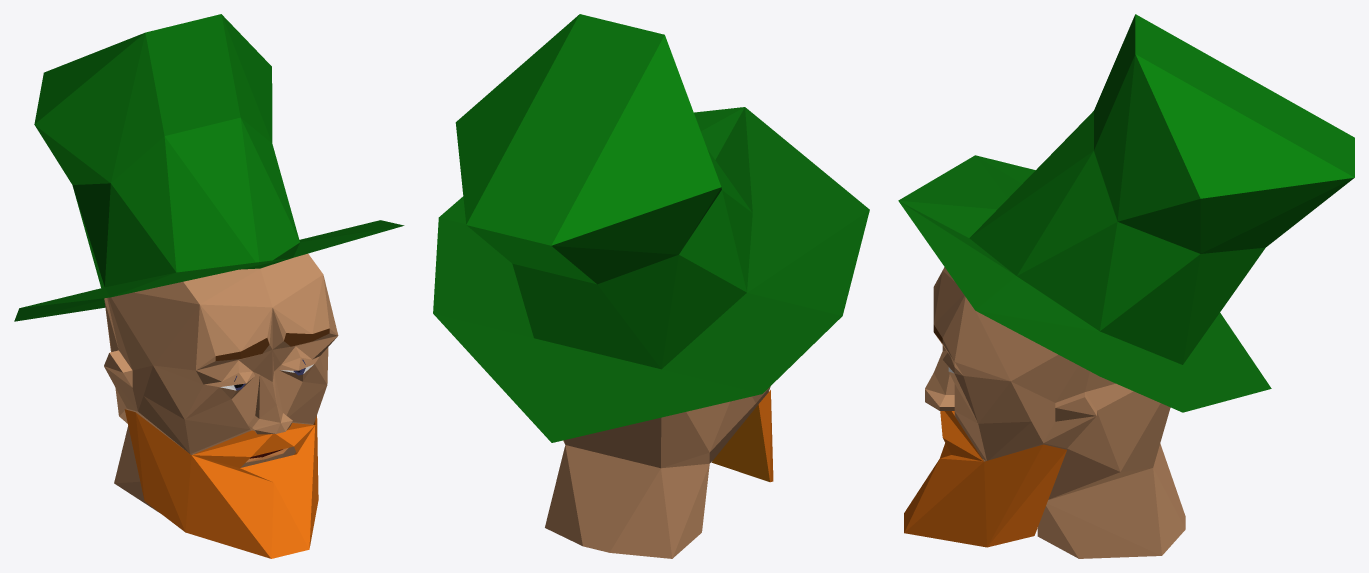
File: model_24_npc_head.obj
3 renders of one model, left to right at view 1: azimuth 30°, elevation 25°; view 2: azimuth 150°, elevation 25°; view 3: azimuth 270°, elevation 25°, orthographic. The views are drawn at different scales.
Visible parts, largest first — view 1: 24; view 2: 24; view 3: 24.
Part boxes in pixels (x1,y1,x2,y2): 24: (14,14,404,558); 24: (433,14,869,558); 24: (898,14,1354,558).
Size of the model in its own units: 152 by 186 by 154.
